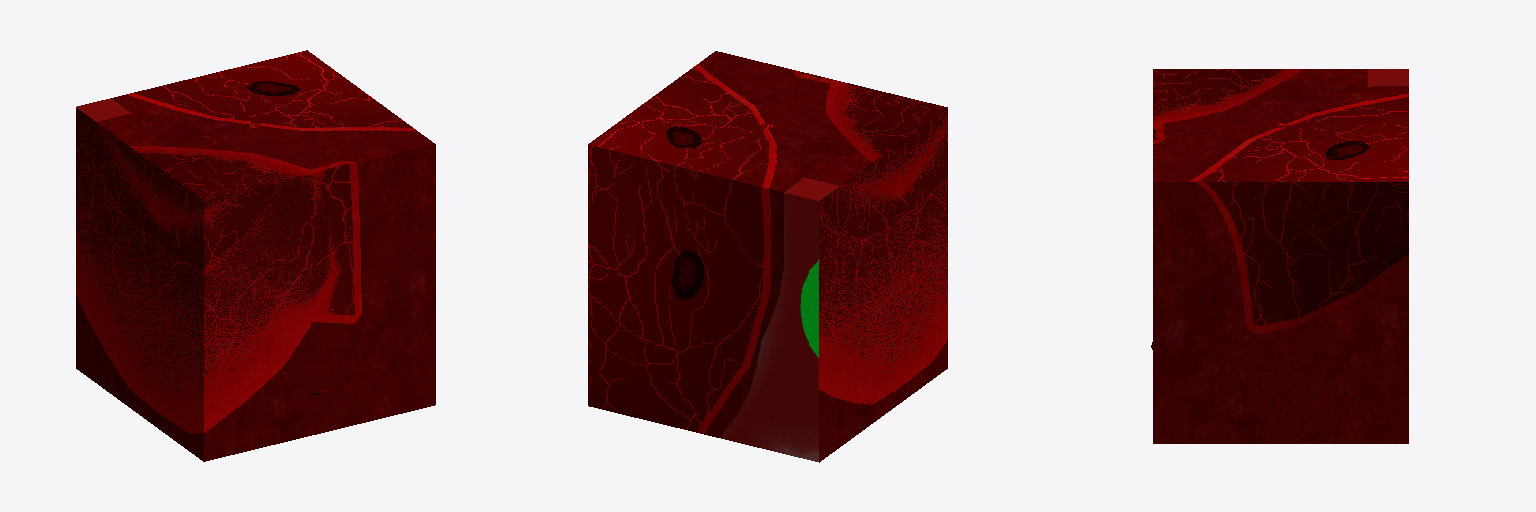
3 renders of one model, left to right at view 1: azimuth 30°, elevation 25°; view 2: azimuth 150°, elevation 25°; view 3: azimuth 270°, elevation 25°, orthographic.
Visible parts, largest first — view 1: collision; view 2: collision; view 3: collision.
Part boxes in pixels (left/top/right/bottom): collision: left=76, top=50, right=435, bottom=461; collision: left=588, top=51, right=947, bottom=462; collision: left=1153, top=69, right=1408, bottom=443.
Size of the model in its own units: 1.58 by 1.7 by 1.52.
1 materials, 1 textured.